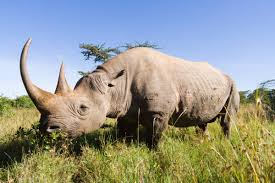Rhinoceros: (15, 21, 243, 152)
